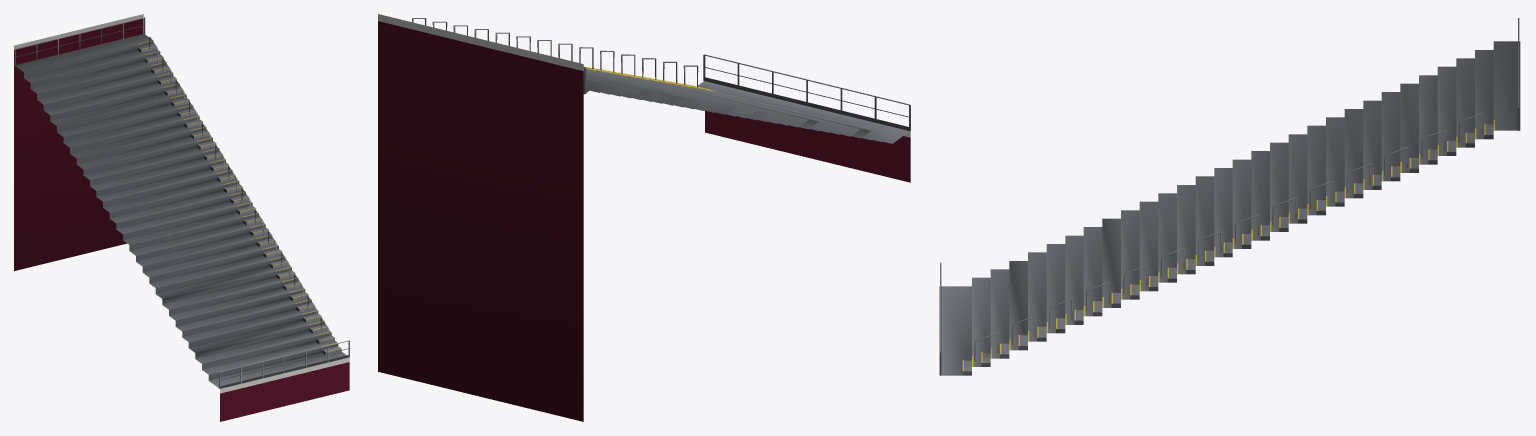
File: stand_north_kit_0.glb
The picture shows the model from 3 angles, left to right: view 1: azimuth 30°, elevation 25°; view 2: azimuth 150°, elevation 25°; view 3: azimuth 270°, elevation 25°; orthographic projection. The views are drawn at different scales.
Parts seen in each view (by area): view 1: kit_0; view 2: kit_0; view 3: kit_0.
Boxes of the visible parts, <box> form: kit_0: <box>14,14,349,421</box>; kit_0: <box>378,14,910,421</box>; kit_0: <box>939,18,1520,375</box>.
Size of the model in its own units: 9.13 by 15.1 by 25.
